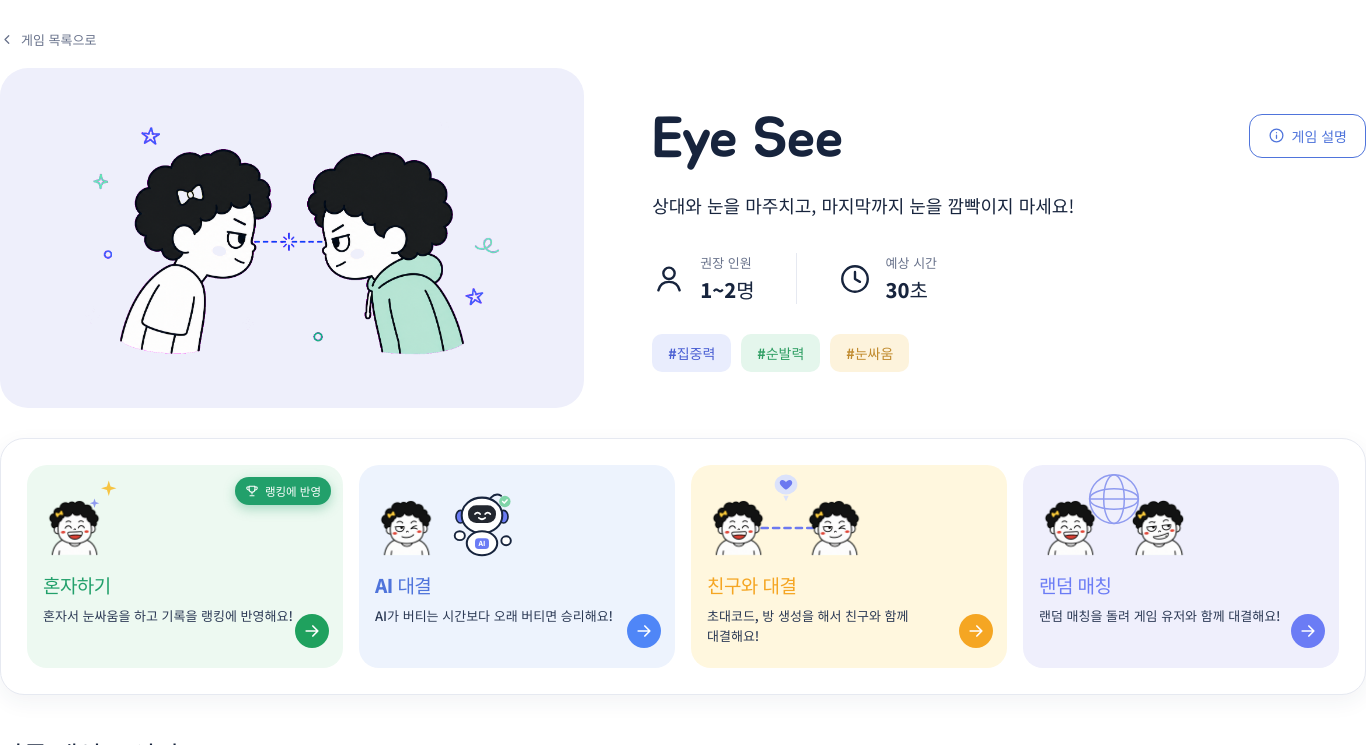
Test case: GameDetailPage › renders the highlight strip without 게임 방법 for the hold game
Click the button with class "game-detail-page__description-button" at (1307, 136), box [1248,114,1365,158]
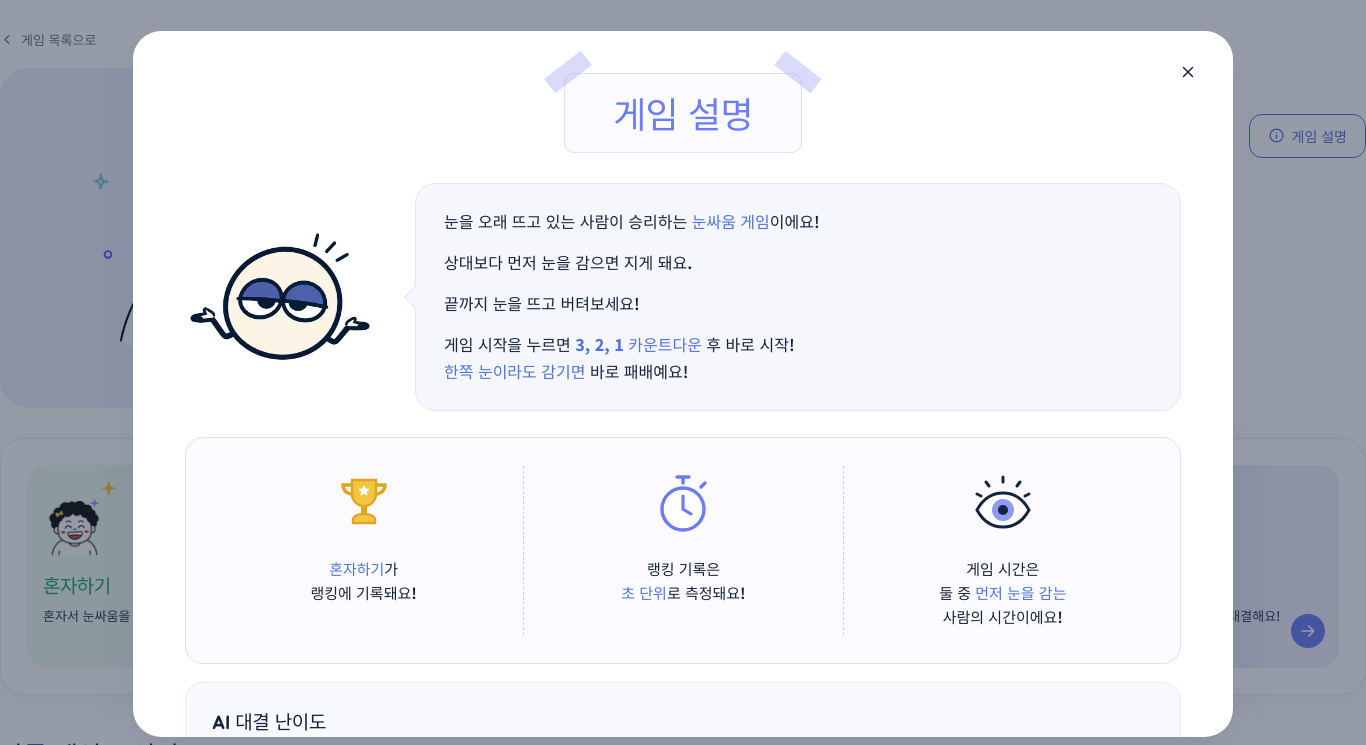
Check: the number of elements with class "game-detail-page__guide-highlight" is 3, box [310,472,417,603]; [523,466,843,635]; [843,466,1162,635]
